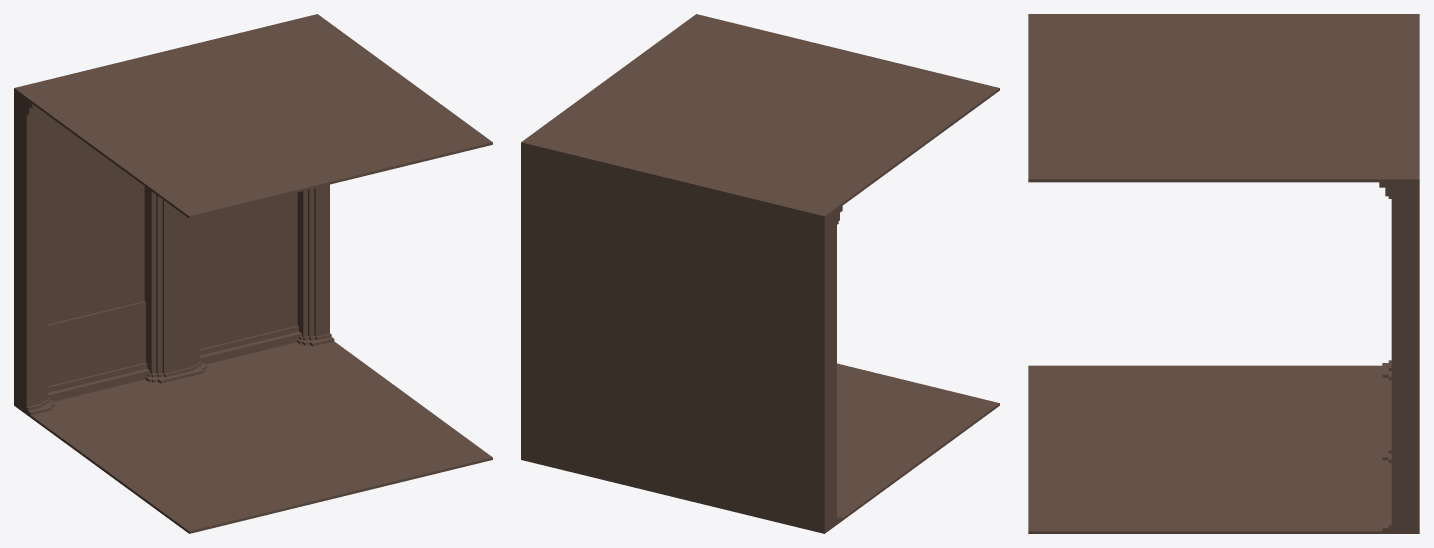
The model's file is cave-b5-d5-a2-a3-a4-b1-c1-e2-e3-e4.obj.
3 renders of one model, left to right at view 1: azimuth 30°, elevation 25°; view 2: azimuth 150°, elevation 25°; view 3: azimuth 270°, elevation 25°, orthographic. The views are drawn at different scales.
Bounding box in the file's own units: 126 × 126 × 126.
Materials: 1 (1 with a texture image).
